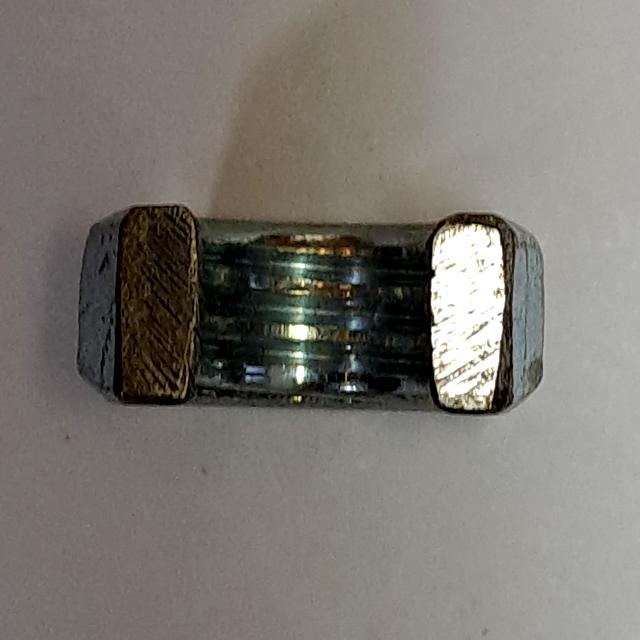Side-Fracture: (53, 190, 569, 447)
